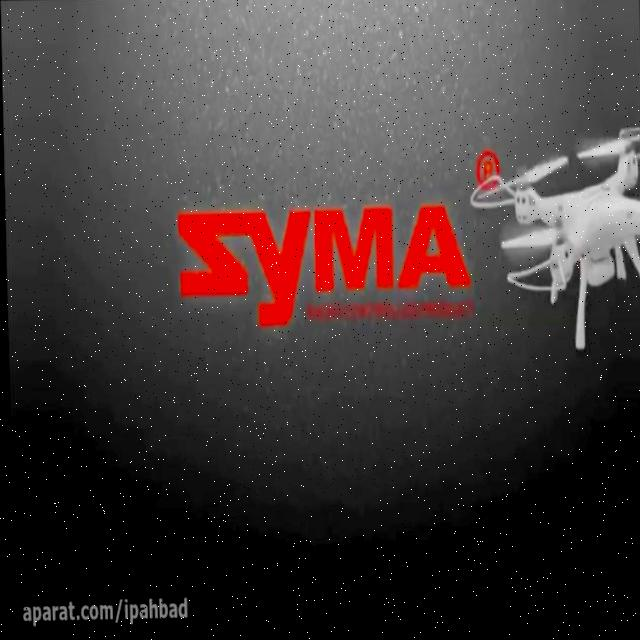drone: (465, 128, 640, 352)
